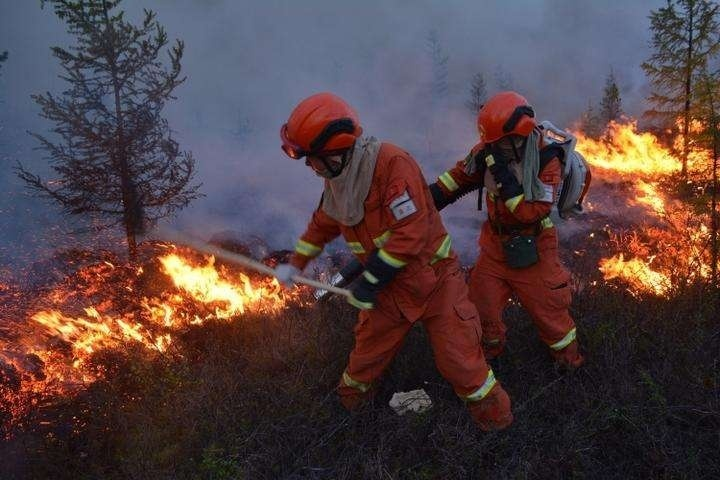fire: (11, 238, 290, 424), (572, 103, 718, 298)
